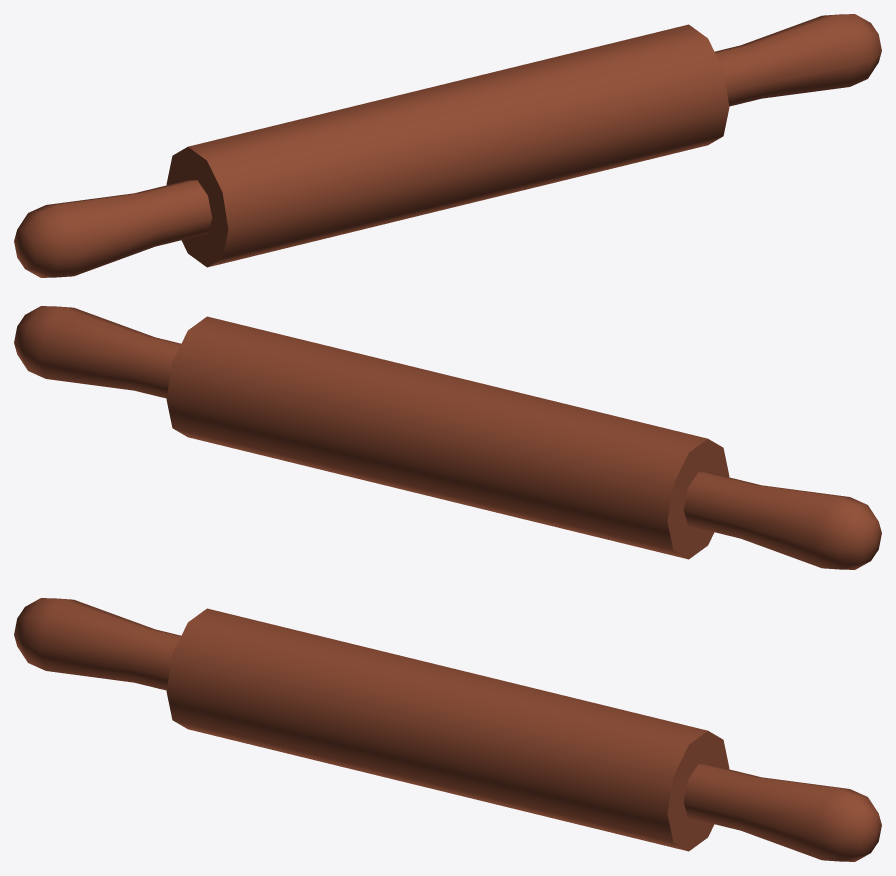
File: RollingPin_01_Small.fbx
3 views of the same model, one above another, from view 1: azimuth 30°, elevation 25°; view 2: azimuth 150°, elevation 25°; view 3: azimuth 330°, elevation 25° (orthographic).
Parts seen in each view (by area): view 1: RollingPin_01_Small; view 2: RollingPin_01_Small; view 3: RollingPin_01_Small.
Part boxes in pixels (<box>): RollingPin_01_Small: <box>14,14,881,277</box>; RollingPin_01_Small: <box>14,306,881,569</box>; RollingPin_01_Small: <box>14,598,881,861</box>.
Bounding box in the file's own units: 0.3866 × 0.0462 × 0.0485.
